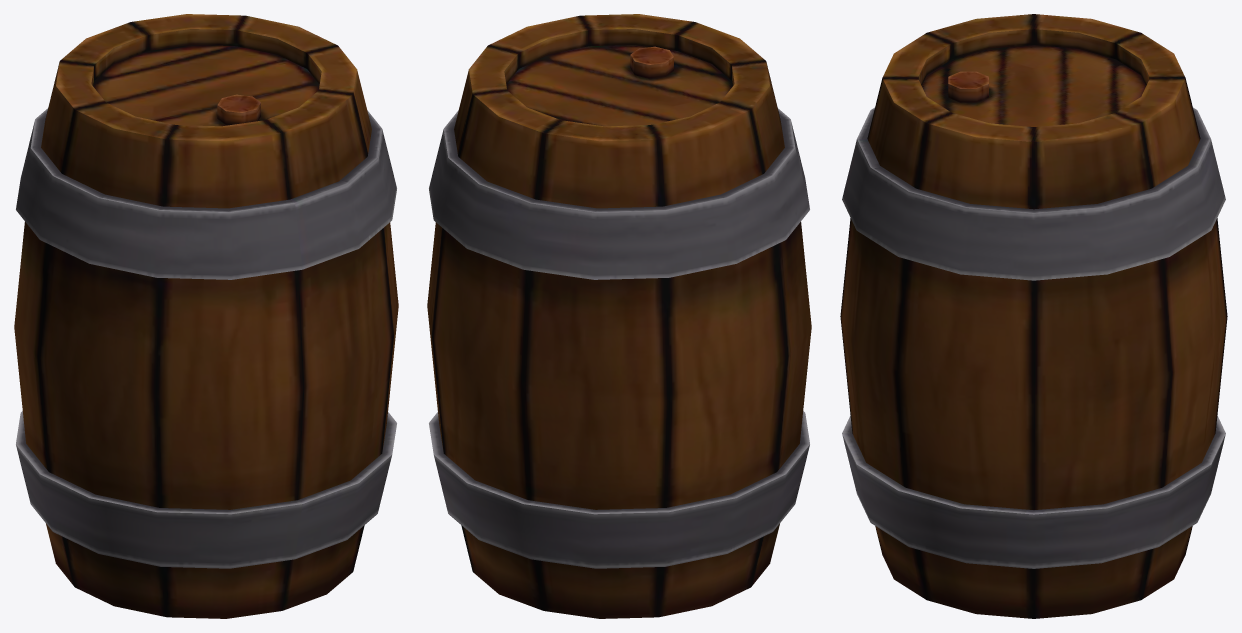
The model's file is drop-harbor-23.glb.
3 views of the same model, side by side, from view 1: azimuth 30°, elevation 25°; view 2: azimuth 150°, elevation 25°; view 3: azimuth 270°, elevation 25° (orthographic).
Visible parts, largest first — view 1: piece; view 2: piece; view 3: piece.
Boxes of the visible parts, <box> form: piece: <box>14,14,398,618</box>; piece: <box>427,14,811,618</box>; piece: <box>840,14,1227,618</box>.
Size of the model in its own units: 3.68 by 5 by 3.68.
1 material, 1 textured.
